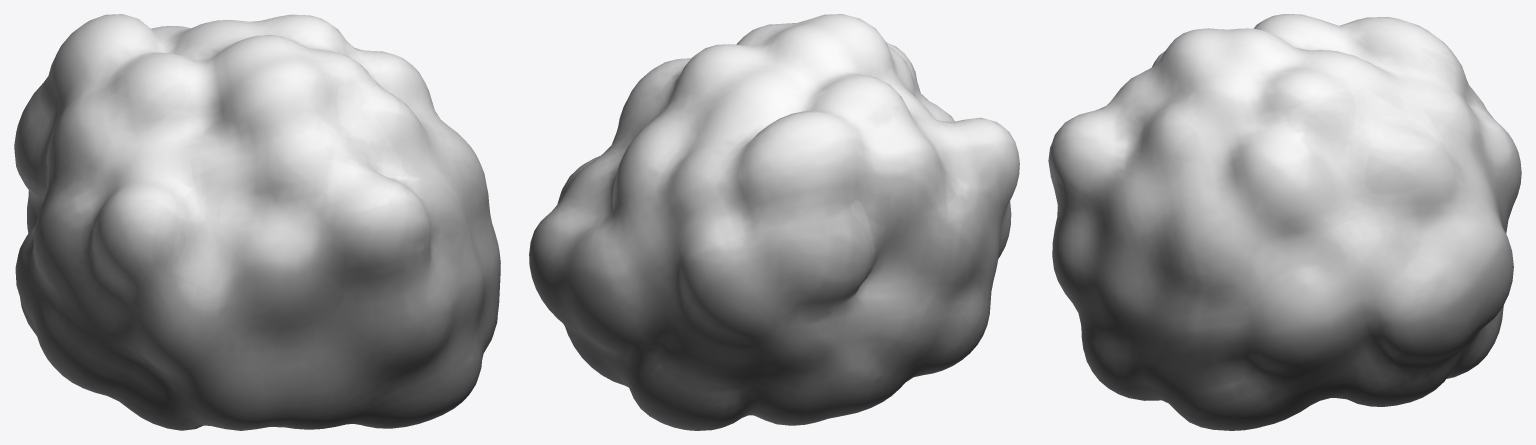
File: cloud.fbx
3 views of the same model, side by side, from view 1: azimuth 30°, elevation 25°; view 2: azimuth 150°, elevation 25°; view 3: azimuth 270°, elevation 25° (orthographic). The views are drawn at different scales.
Parts seen in each view (by area): view 1: Cube.071; view 2: Cube.071; view 3: Cube.071.
Part boxes in pixels (bbox=[...]): Cube.071: bbox=[14, 14, 500, 430]; Cube.071: bbox=[529, 14, 1019, 430]; Cube.071: bbox=[1048, 14, 1521, 430].
Size of the model in its own units: 792 by 628 by 820.
1 material, 1 textured.
